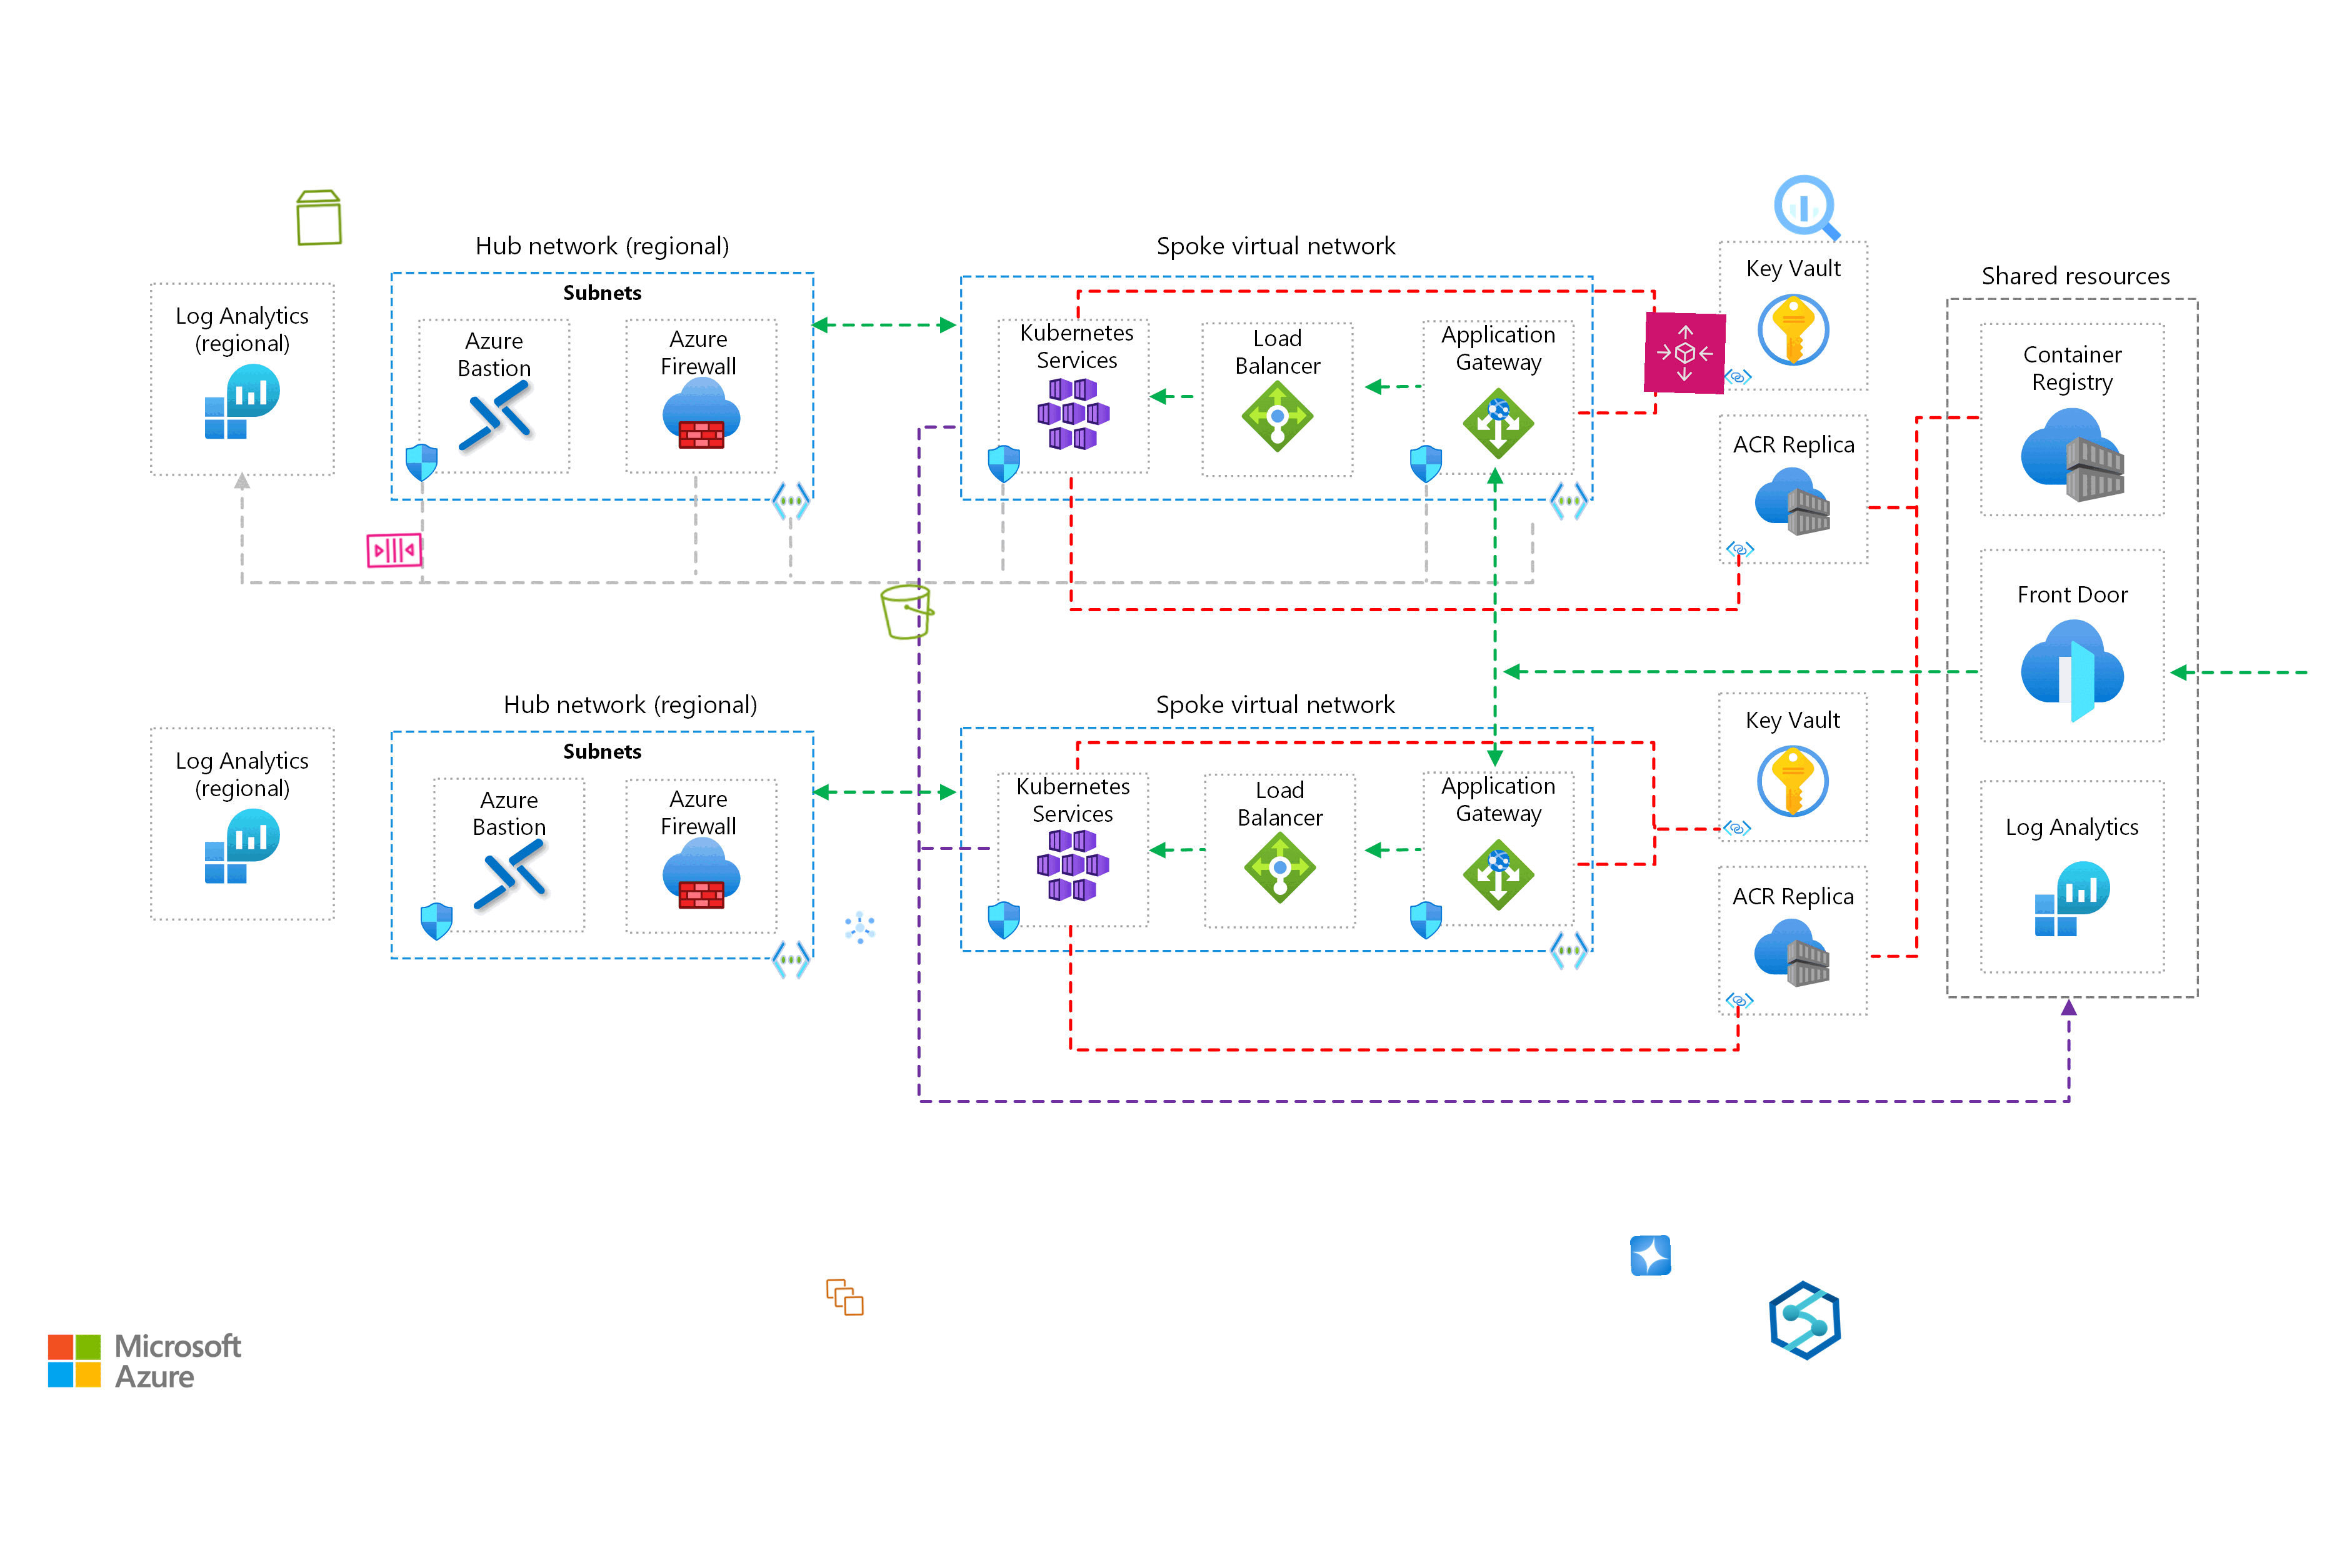aws_auto_scaling: (1643, 311, 1725, 394)
aws_ec2_instances: (824, 1277, 866, 1318)
aws_elastic_block_store_volume: (289, 185, 350, 248)
aws_simple_queue_service_queue: (364, 518, 425, 581)
aws_simple_storage_service_s3_standard: (875, 579, 941, 644)
azure_openai: (1629, 1235, 1671, 1276)
azure_synapse_analytics: (1762, 1277, 1848, 1363)
gcp_bigquery: (1768, 168, 1848, 248)
gcp_pubsub: (838, 906, 882, 948)
